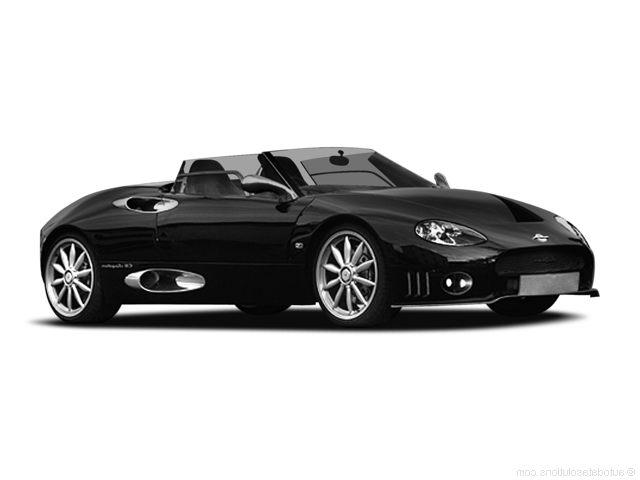Car: (27, 141, 600, 353)
